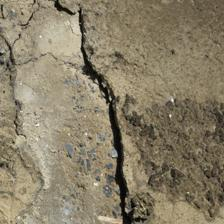Crack: (28, 1, 109, 221)
